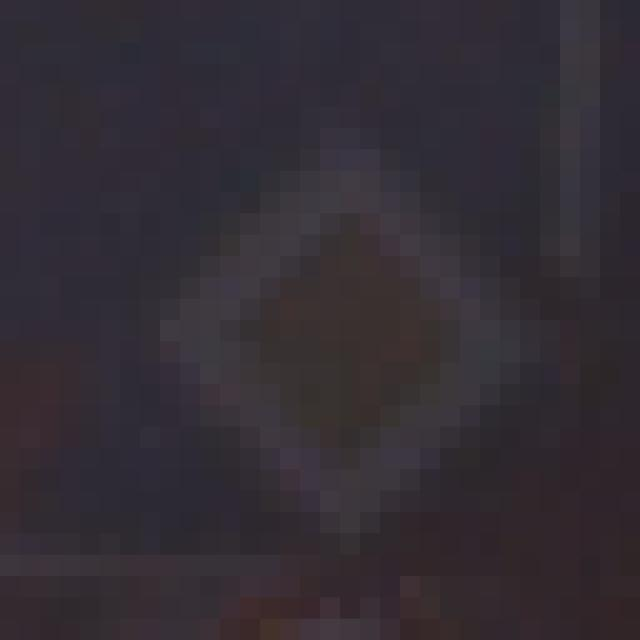Main Road: (121, 129, 521, 534)
